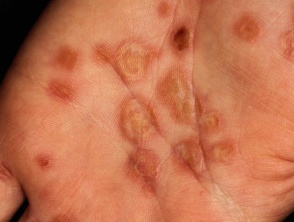SJS-TEN: (100, 16, 245, 207)
